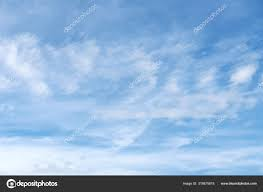sky: (1, 1, 263, 176)
